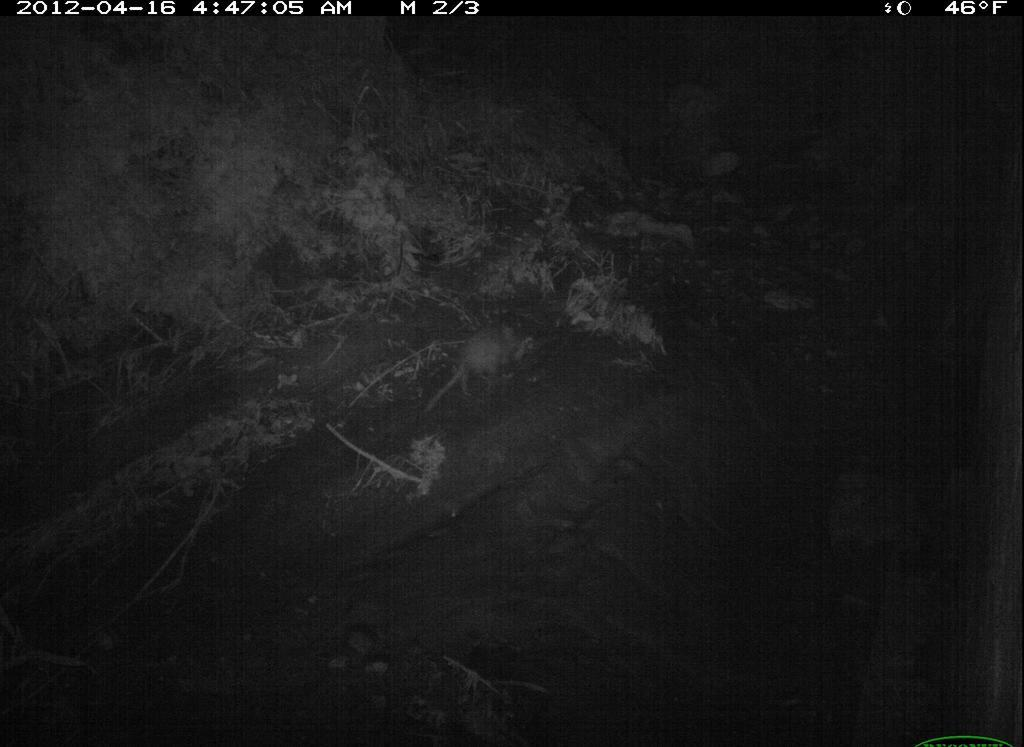opossum: (413, 310, 553, 418)
